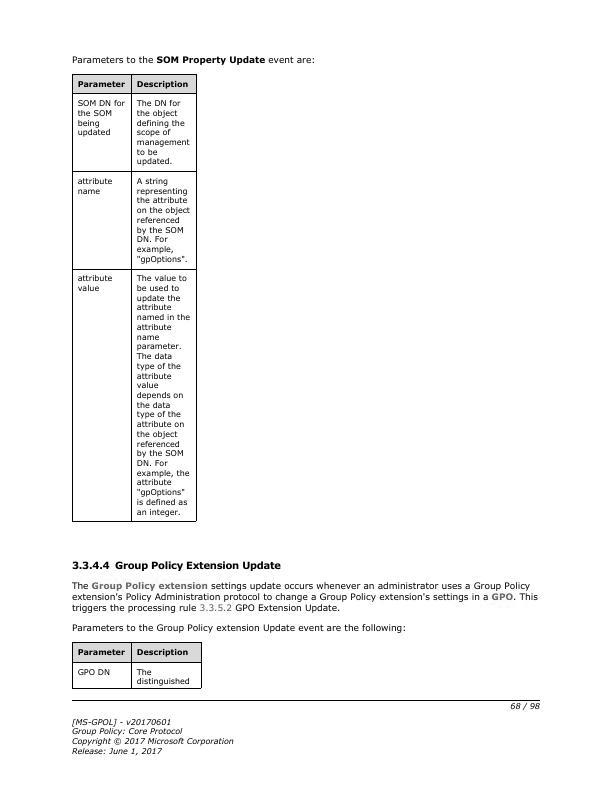table: (73, 74, 197, 522), (71, 642, 202, 690)
text: (69, 581, 540, 614), (69, 713, 237, 760), (69, 622, 411, 634), (69, 51, 321, 66), (71, 557, 283, 572)
